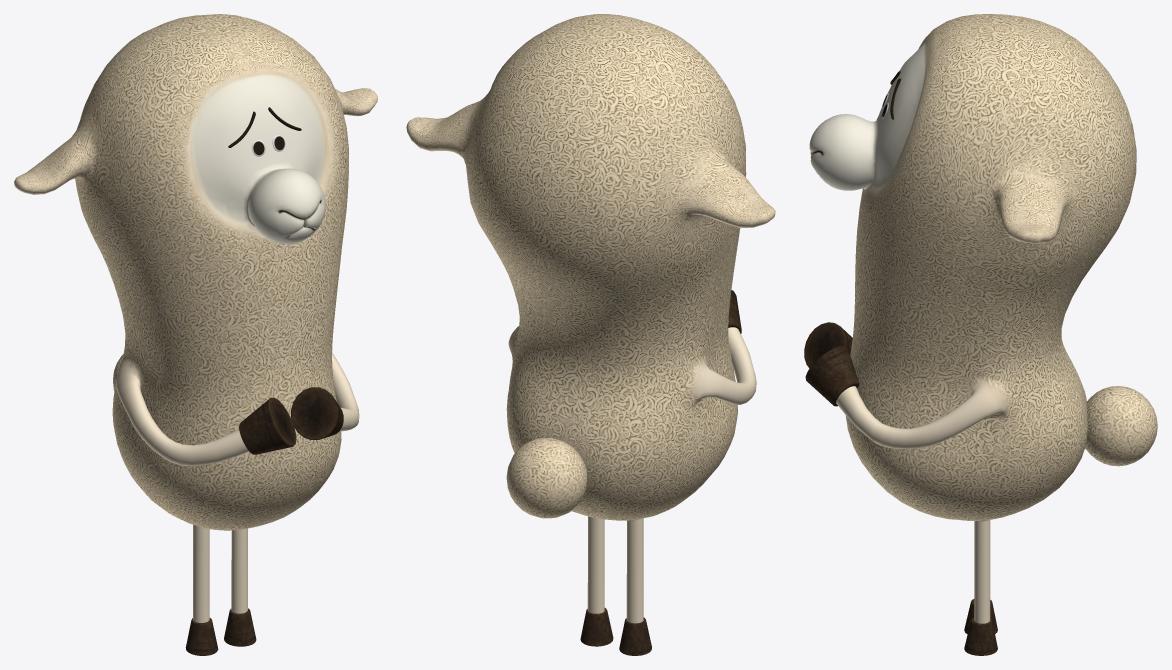
File: Lamb.glb
The picture shows the model from 3 angles, left to right: view 1: azimuth 30°, elevation 25°; view 2: azimuth 150°, elevation 25°; view 3: azimuth 270°, elevation 25°; orthographic projection.
Parts seen in each view (by area): view 1: lamb.1; view 2: lamb.1; view 3: lamb.1.
Boxes of the visible parts, left/top/right/bottom form: lamb.1: left=14, top=14, right=377, bottom=655; lamb.1: left=406, top=14, right=775, bottom=655; lamb.1: left=804, top=14, right=1157, bottom=655.
Size of the model in its own units: 0.2064 by 0.3366 by 0.176.
1 material, 1 textured.
